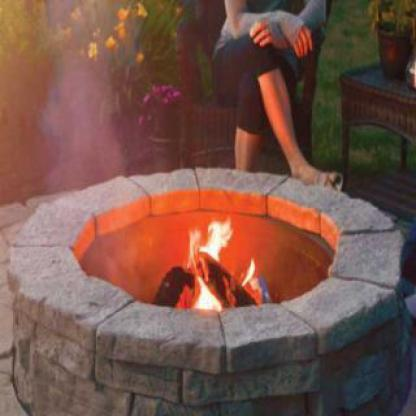Fire: (172, 216, 240, 312)
Smoke: (32, 46, 132, 272)
